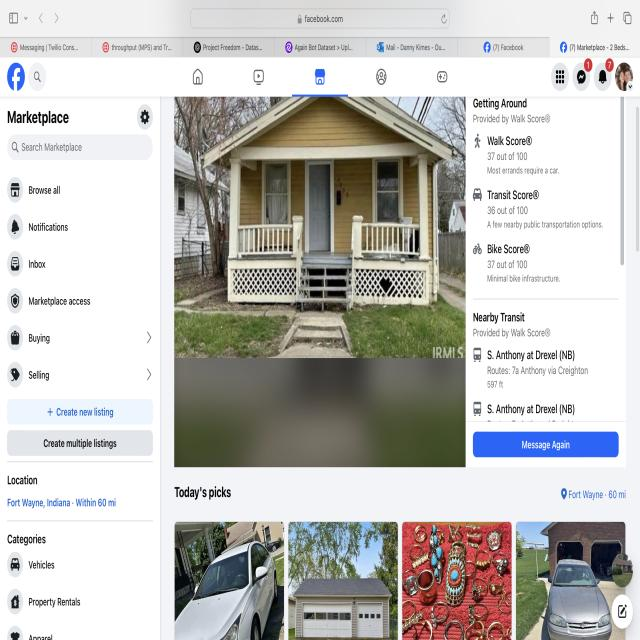message_button: (475, 434, 617, 455)
